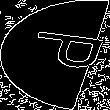P_E: (8, 32, 102, 78)
